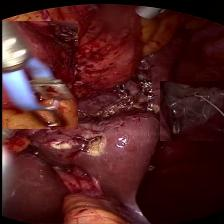Bipolar: (0, 21, 77, 129)
Irrigator: (132, 6, 170, 22)
Specimen Bag: (159, 81, 224, 141)
